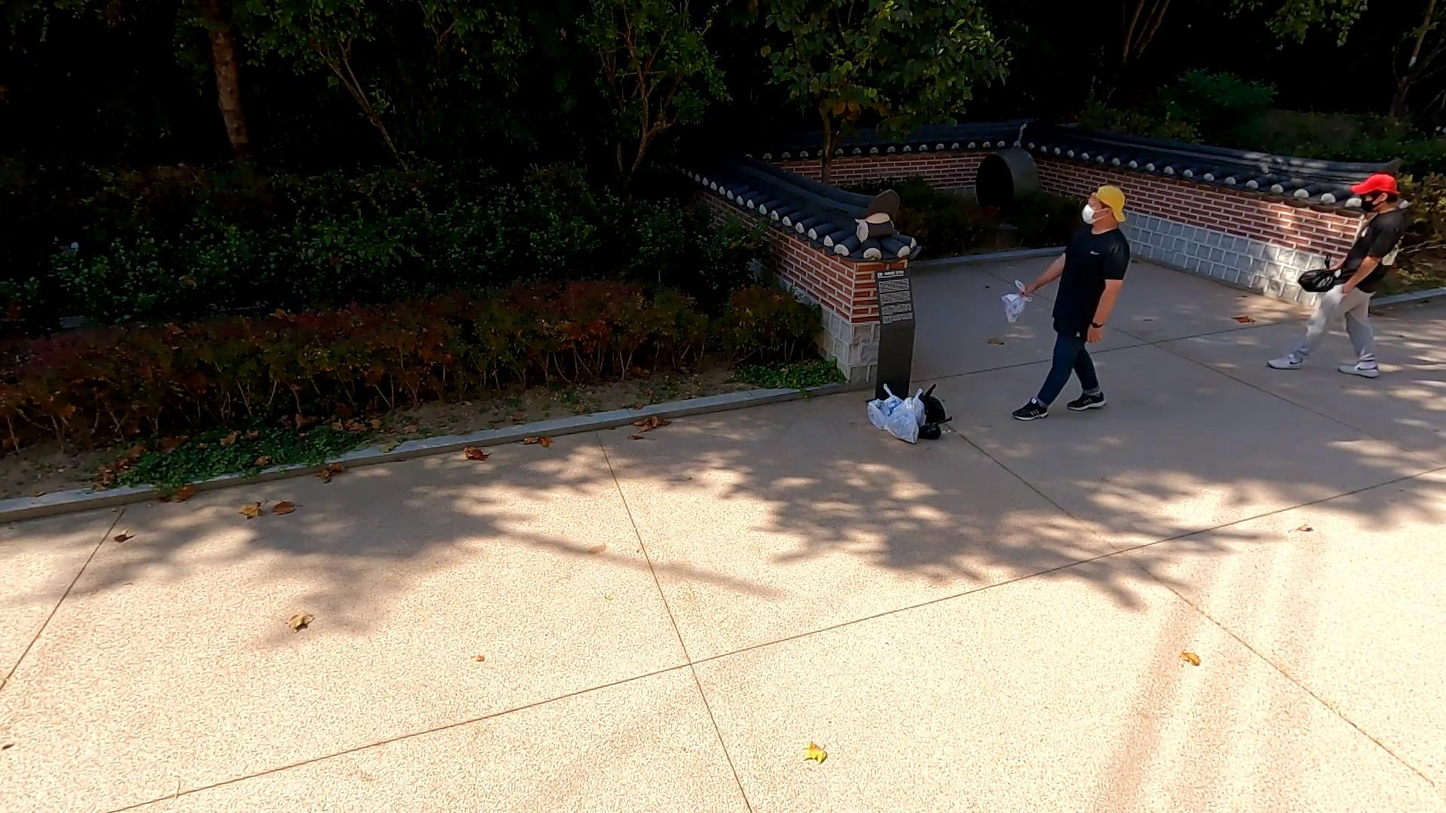person: (1264, 171, 1408, 381), (1016, 186, 1140, 424)
trash: (1294, 252, 1344, 298), (911, 383, 956, 430), (996, 278, 1034, 321), (882, 407, 922, 447), (896, 383, 926, 436), (879, 385, 902, 431), (866, 398, 894, 432), (913, 419, 946, 443)
